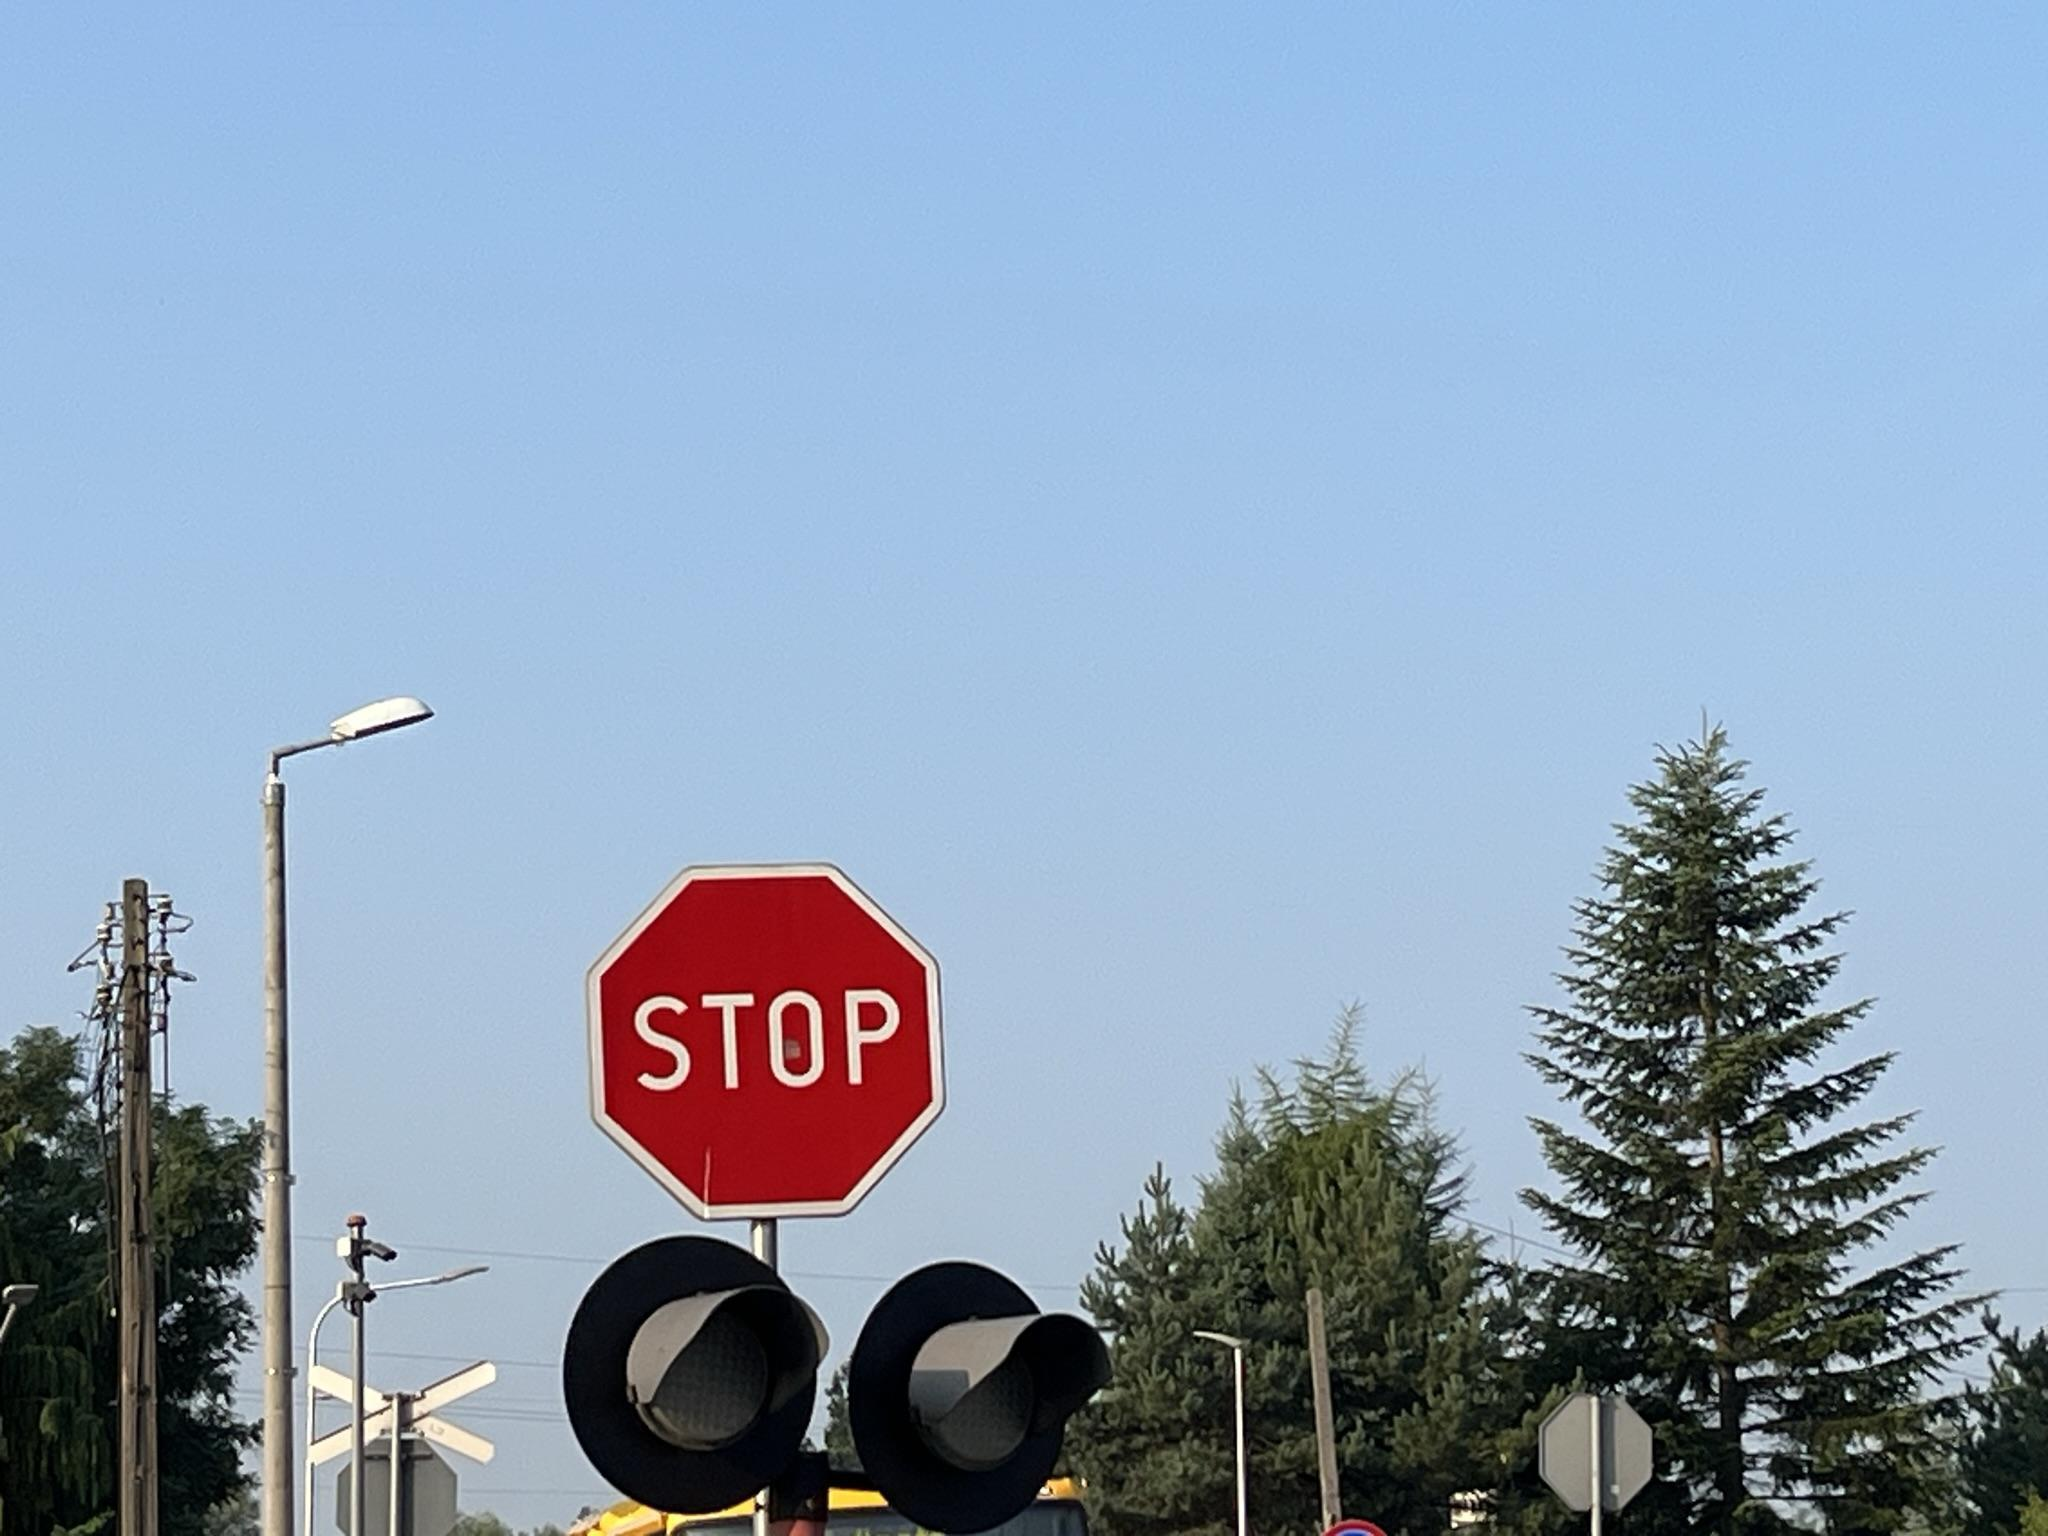prohibitory: (587, 863, 947, 1220)
